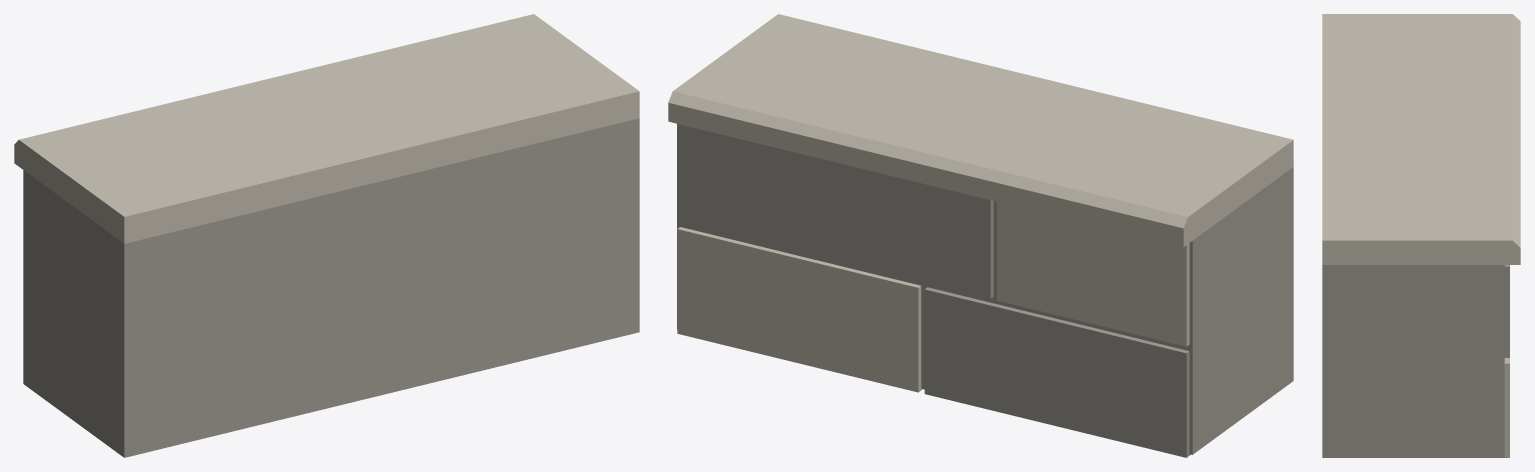
The model's file is FMS_Garden_Pond_Edge.fbx.
The picture shows the model from 3 angles, left to right: view 1: azimuth 30°, elevation 25°; view 2: azimuth 150°, elevation 25°; view 3: azimuth 270°, elevation 25°; orthographic projection. The views are drawn at different scales.
Parts seen in each view (by area): view 1: FMS_Garden_Pond_Edge_Body; view 2: FMS_Garden_Pond_Edge_Body; view 3: FMS_Garden_Pond_Edge_Body.
Part boxes in pixels (x1=…): FMS_Garden_Pond_Edge_Body: x1=14, y1=14, x2=639, y2=457; FMS_Garden_Pond_Edge_Body: x1=668, y1=14, x2=1293, y2=457; FMS_Garden_Pond_Edge_Body: x1=1322, y1=14, x2=1520, y2=457.
Bounding box in the file's own units: 1 × 0.45 × 0.37.
Materials: 1 (1 with a texture image).
